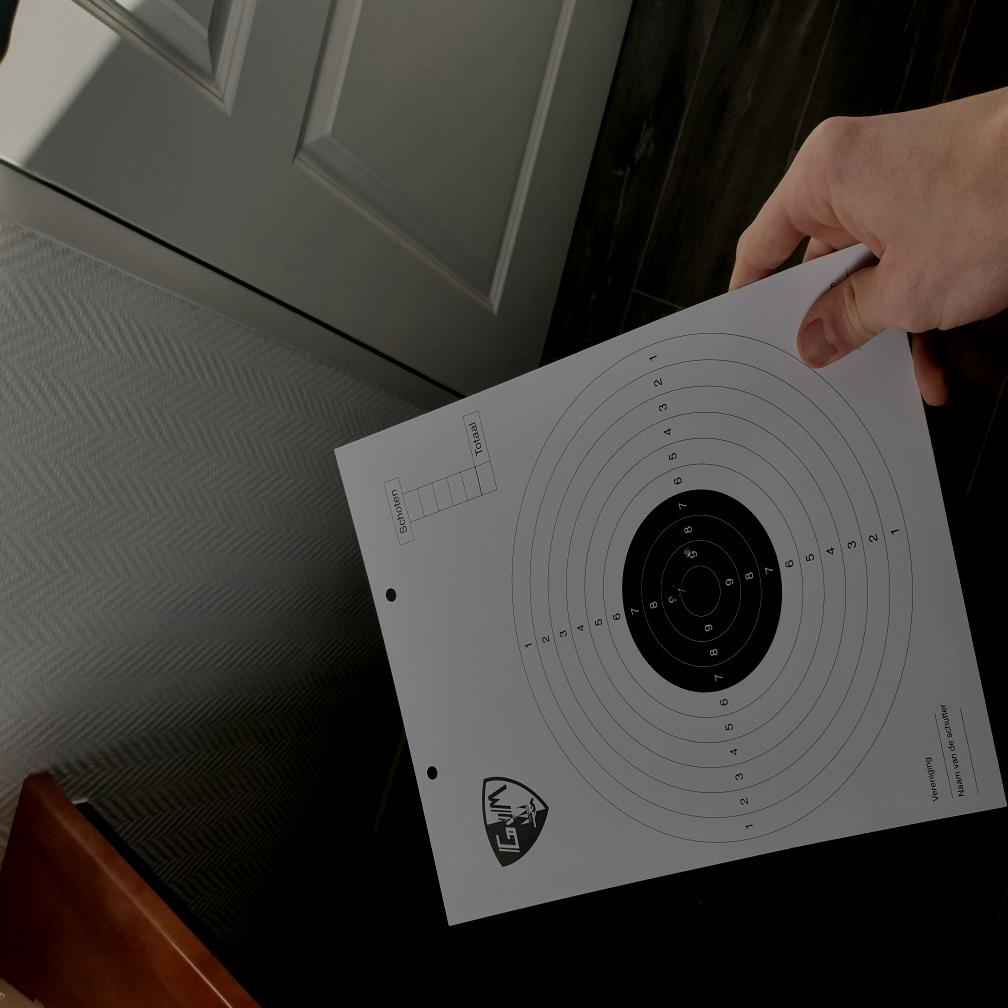10: (669, 582, 685, 604)
9: (682, 546, 692, 558)
Target: (510, 331, 914, 843)
black_contour: (622, 490, 782, 693)
